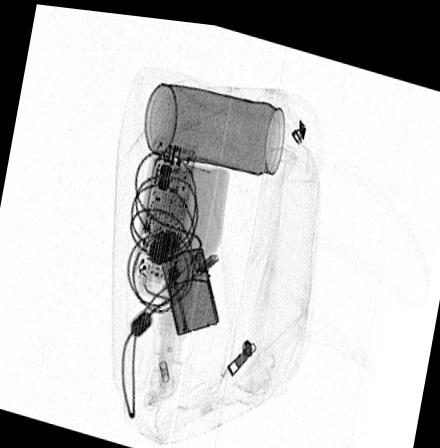Lighter: (160, 242, 217, 331)
